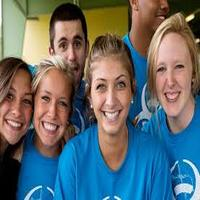person: (81, 27, 145, 151), (141, 15, 200, 129), (35, 58, 84, 155), (42, 4, 96, 80), (1, 46, 36, 160)
